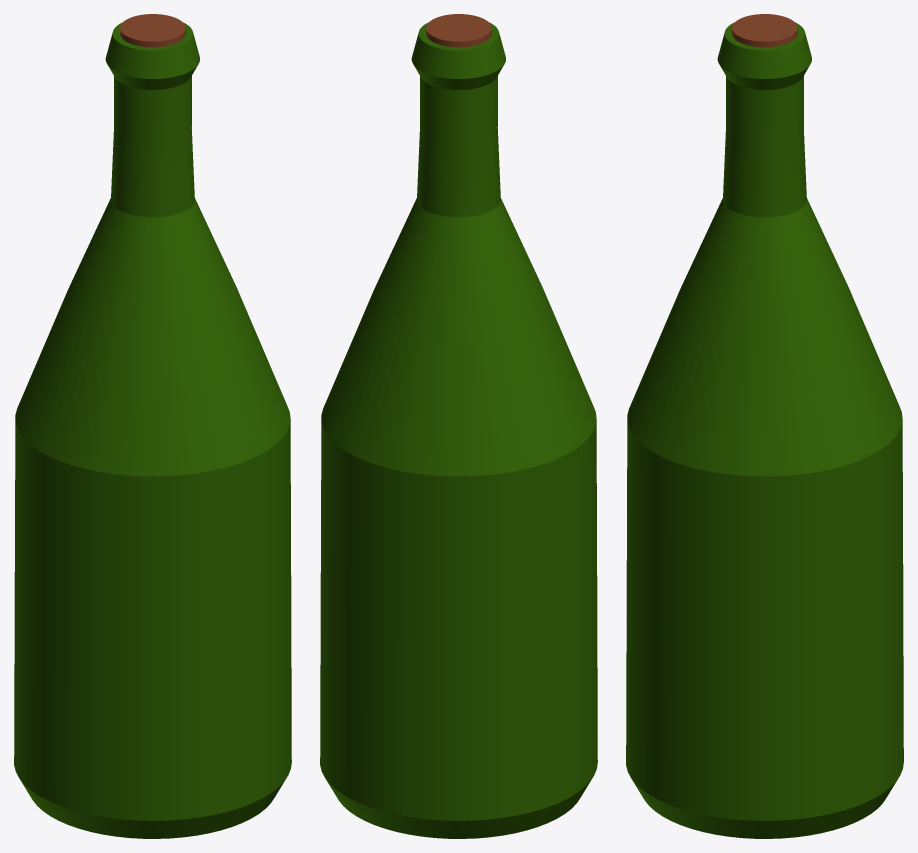
Rendered from bottle-One-1.fbx.
3 views of the same model, side by side, from view 1: azimuth 30°, elevation 25°; view 2: azimuth 150°, elevation 25°; view 3: azimuth 270°, elevation 25° (orthographic).
Visible parts, largest first — view 1: B1; view 2: B1; view 3: B1.
Boxes of the visible parts, box(x1,y1,x2,y2) form: B1: box(14, 14, 291, 838); B1: box(320, 14, 597, 838); B1: box(626, 14, 903, 838).
Size of the model in its own units: 8.48 by 25.55 by 8.48.
